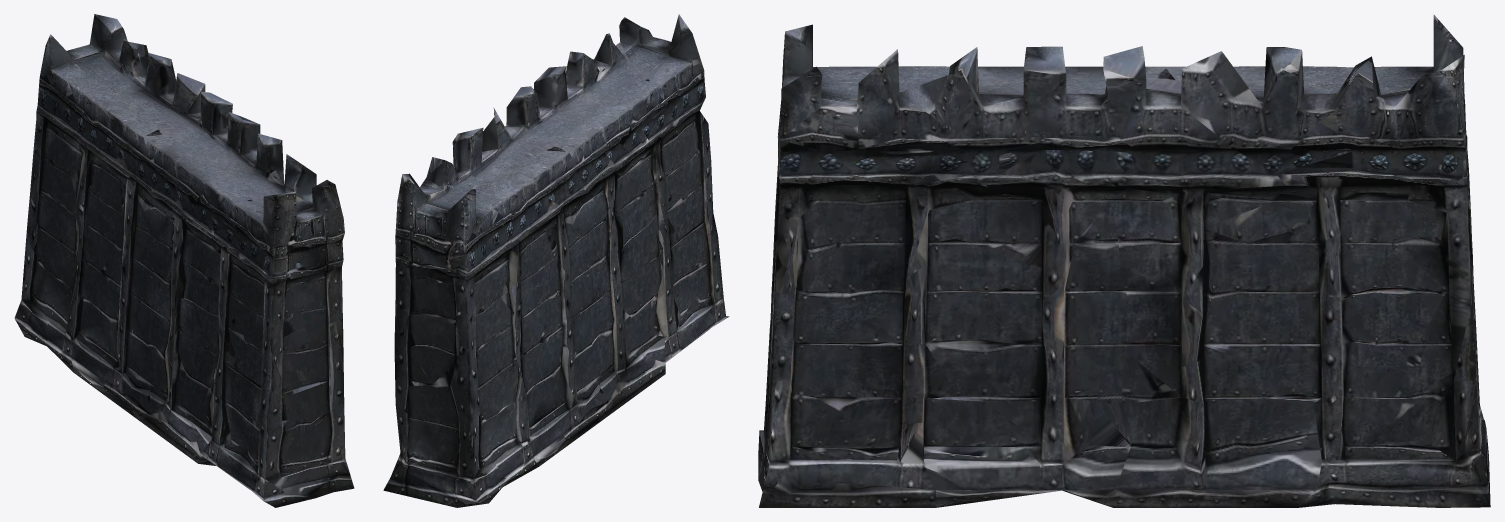
File: castle_wall_iron.glb
The picture shows the model from 3 angles, left to right: view 1: azimuth 30°, elevation 25°; view 2: azimuth 150°, elevation 25°; view 3: azimuth 270°, elevation 25°; orthographic projection. The views are drawn at different scales.
Parts seen in each view (by area): view 1: tripo_node_2973a393-3c60-4374-a208-72ececc9e4d1; view 2: tripo_node_2973a393-3c60-4374-a208-72ececc9e4d1; view 3: tripo_node_2973a393-3c60-4374-a208-72ececc9e4d1.
Part boxes in pixels (x1,y1,x2,y2): tripo_node_2973a393-3c60-4374-a208-72ececc9e4d1: (14, 14, 354, 507); tripo_node_2973a393-3c60-4374-a208-72ececc9e4d1: (383, 14, 729, 507); tripo_node_2973a393-3c60-4374-a208-72ececc9e4d1: (758, 14, 1490, 507).
Bounding box in the file's own units: 0.2058 × 0.6551 × 0.9735.
1 material, 1 textured.
